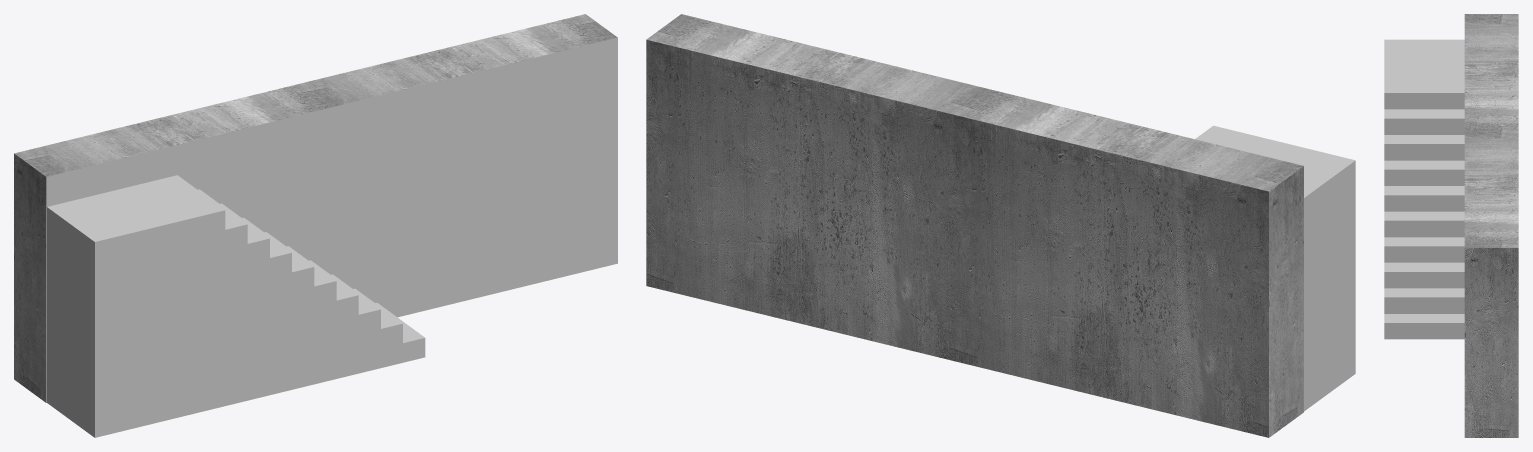
Rendered from pared2DeptoAInvertida.DAE.
3 views of the same model, side by side, from view 1: azimuth 30°, elevation 25°; view 2: azimuth 150°, elevation 25°; view 3: azimuth 270°, elevation 25° (orthographic). The views are drawn at different scales.
Visible parts, largest first — view 1: Pared2DeptoAInvertida; view 2: Pared2DeptoAInvertida; view 3: Pared2DeptoAInvertida.
Boxes of the visible parts, bbox=[...] form: Pared2DeptoAInvertida: bbox=[14, 14, 617, 437]; Pared2DeptoAInvertida: bbox=[646, 14, 1355, 437]; Pared2DeptoAInvertida: bbox=[1384, 14, 1518, 437].
Size of the model in its own units: 8.2 by 3.1 by 1.99.
